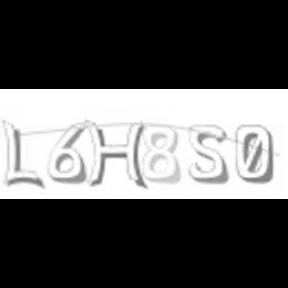0: (234, 123, 274, 185)
6: (46, 118, 86, 184)
8: (141, 122, 183, 186)
H: (86, 117, 146, 189)
L: (0, 119, 46, 189)
S: (188, 123, 230, 185)
